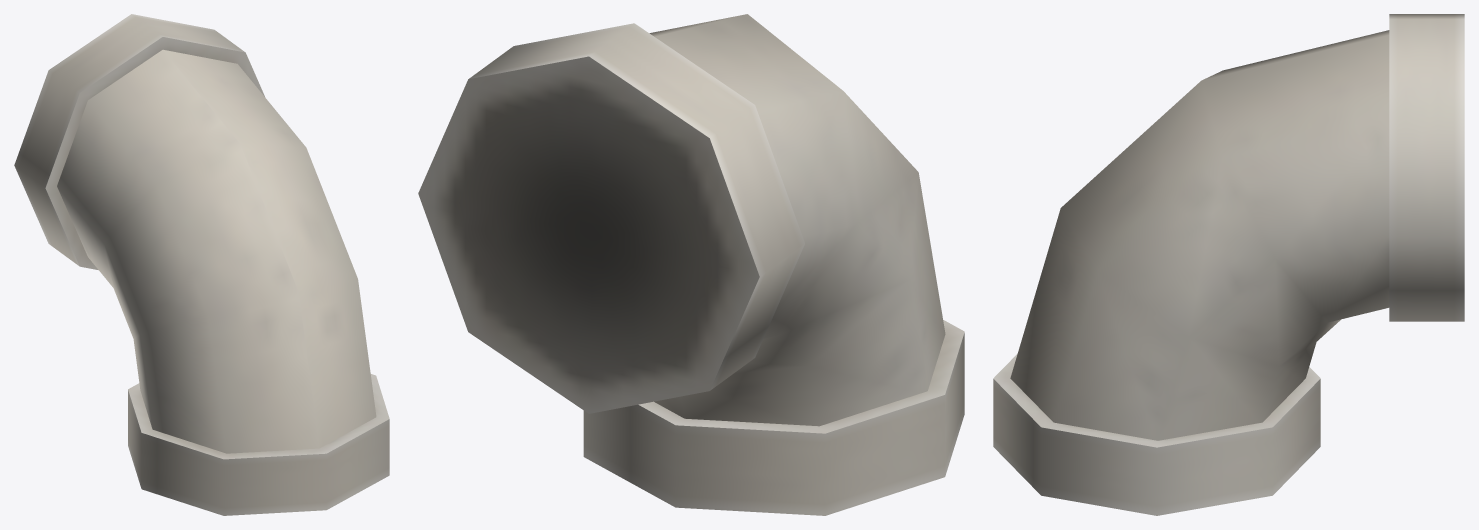
The model's file is set_trough_corner.fbx.
3 renders of one model, left to right at view 1: azimuth 30°, elevation 25°; view 2: azimuth 150°, elevation 25°; view 3: azimuth 270°, elevation 25°, orthographic. The views are drawn at different scales.
Parts seen in each view (by area): view 1: set_trough_corner; view 2: set_trough_corner; view 3: set_trough_corner.
Part boxes in pixels (x1,y1,x2,y2): set_trough_corner: [14, 14, 389, 515]; set_trough_corner: [418, 14, 964, 515]; set_trough_corner: [993, 14, 1464, 515].
Bounding box in the file's own units: 21.71 × 31.26 × 31.26.
